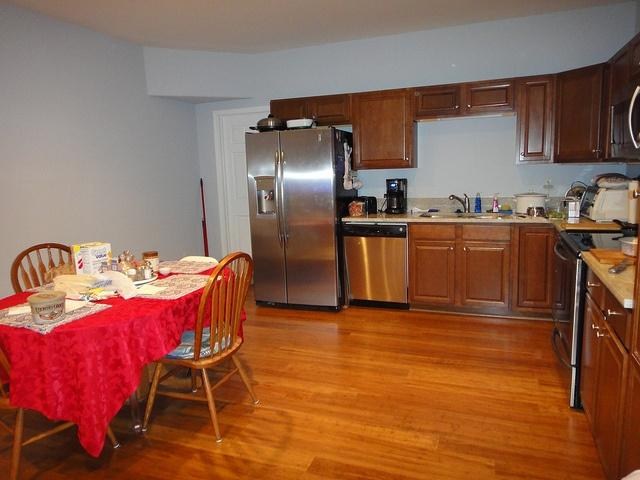Kursi: (139, 251, 259, 443)
